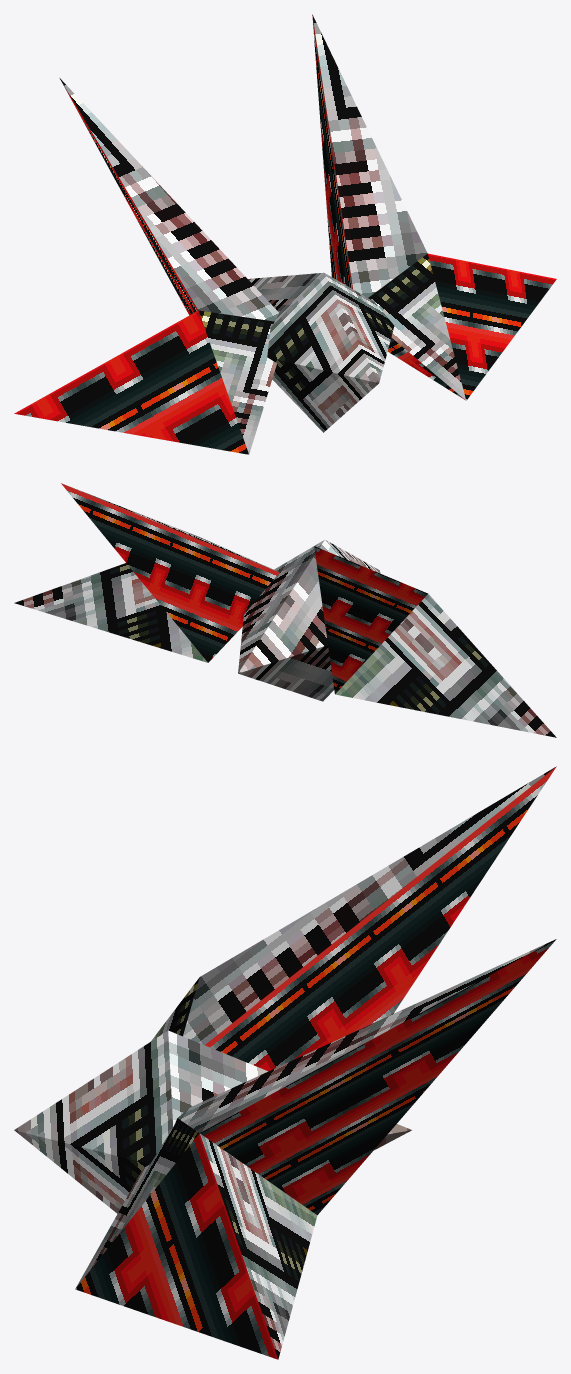
The model's file is Invader III.obj.
3 views of the same model, one above another, from view 1: azimuth 30°, elevation 25°; view 2: azimuth 150°, elevation 25°; view 3: azimuth 270°, elevation 25° (orthographic). The views are drawn at different scales.
Parts seen in each view (by area): view 1: ShapeIndexedFaceSet.044; view 2: ShapeIndexedFaceSet.044; view 3: ShapeIndexedFaceSet.044.
Part boxes in pixels (x1=…): ShapeIndexedFaceSet.044: x1=14, y1=14, x2=556, y2=454; ShapeIndexedFaceSet.044: x1=14, y1=483, x2=556, y2=737; ShapeIndexedFaceSet.044: x1=14, y1=766, x2=556, y2=1359.
Bounding box in the file's own units: 5.4 × 2.74 × 3.32.
Materials: 2 (2 with a texture image).
